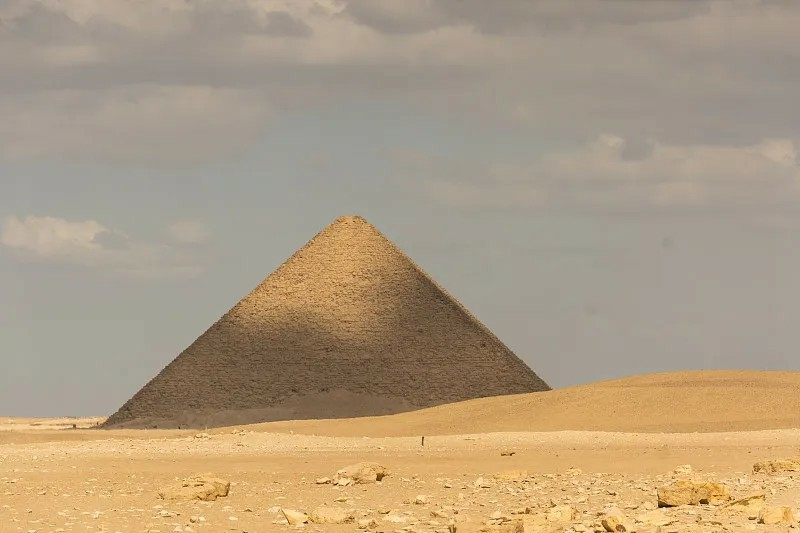Pyramid: (86, 214, 553, 431)
